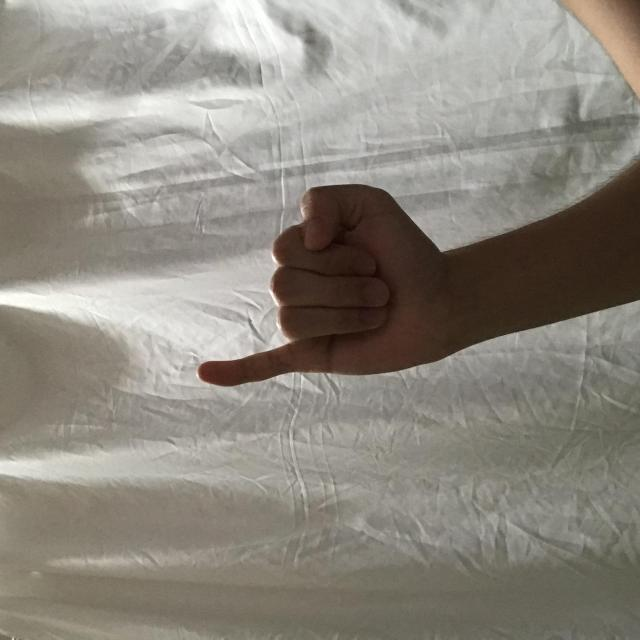I: (252, 196, 456, 442)
